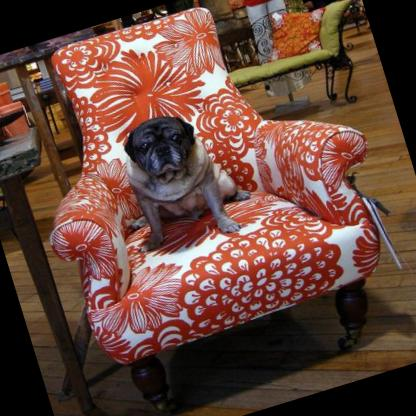pug: (90, 94, 260, 263)
